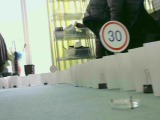speed_30: (99, 20, 130, 52)
